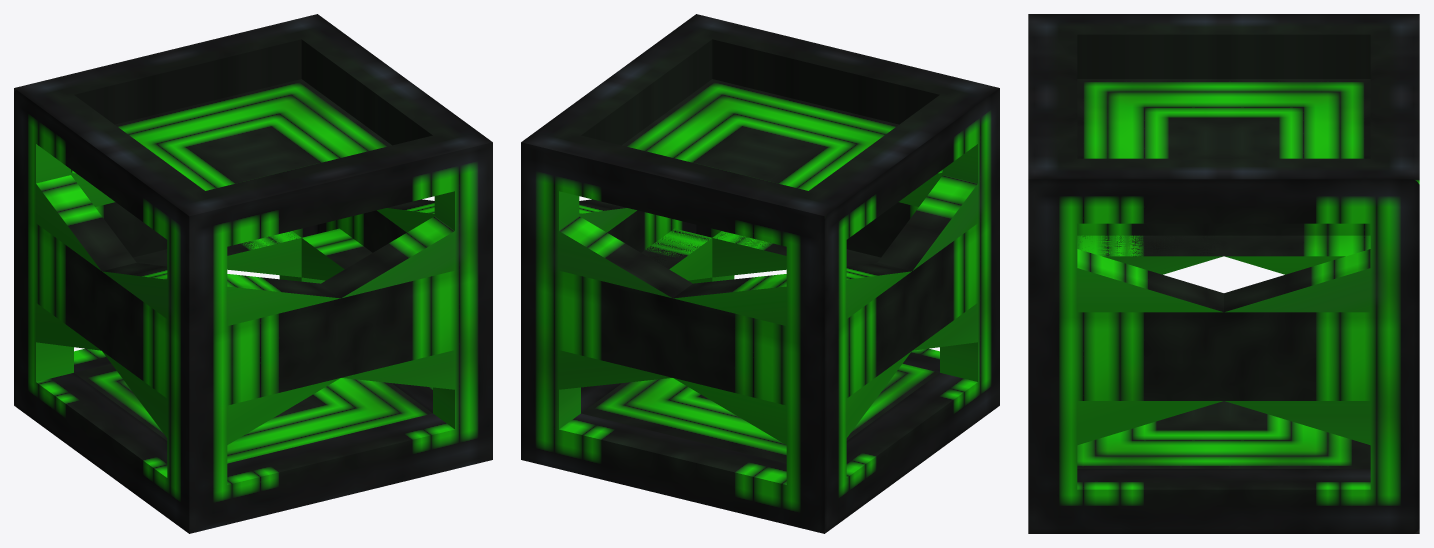
File: mithrilinefurnace.obj
The picture shows the model from 3 angles, left to right: view 1: azimuth 30°, elevation 25°; view 2: azimuth 150°, elevation 25°; view 3: azimuth 270°, elevation 25°; orthographic projection. The views are drawn at different scales.
Parts seen in each view (by area): view 1: pCube1; view 2: pCube1; view 3: pCube1.
Boxes of the visible parts, <box> form: pCube1: <box>14,14,492,533</box>; pCube1: <box>521,14,999,533</box>; pCube1: <box>1028,14,1419,533</box>.
Size of the model in its own units: 1 by 1 by 1.
